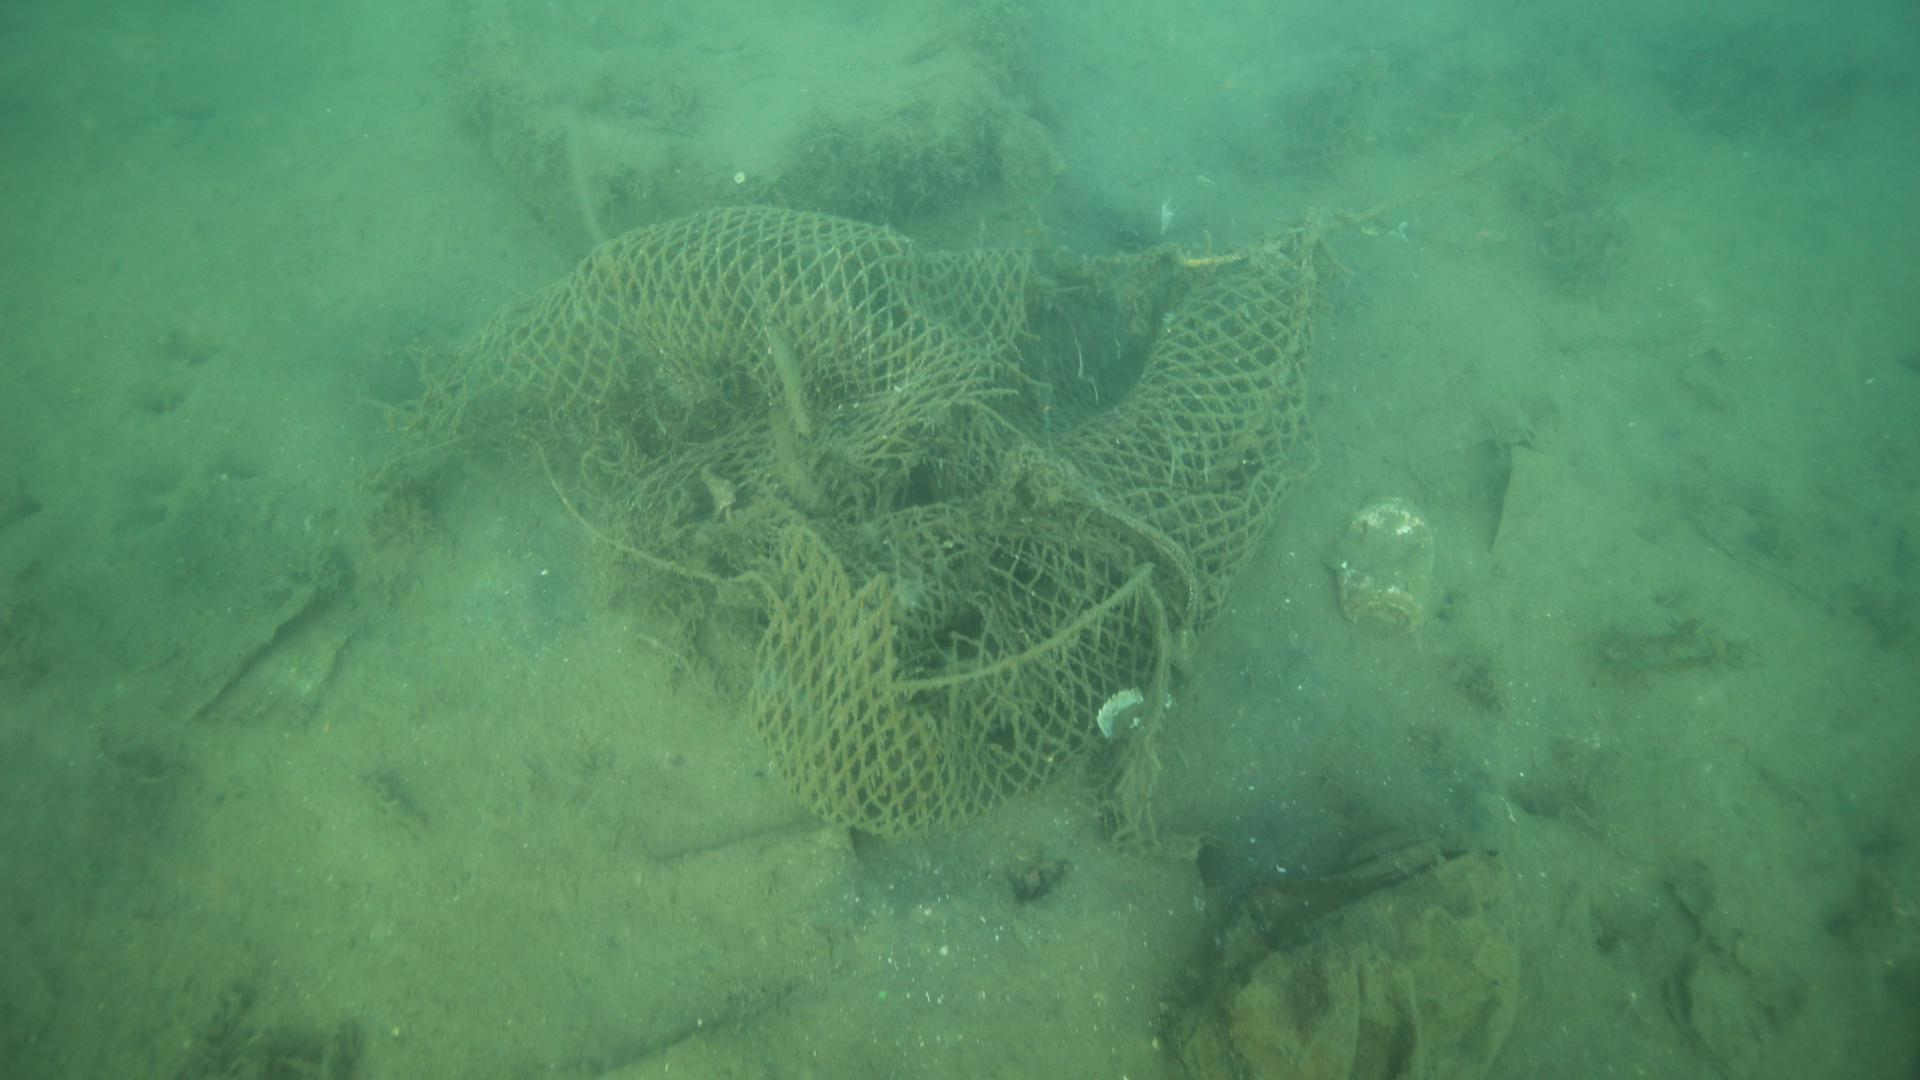fish net: (436, 200, 1317, 836)
